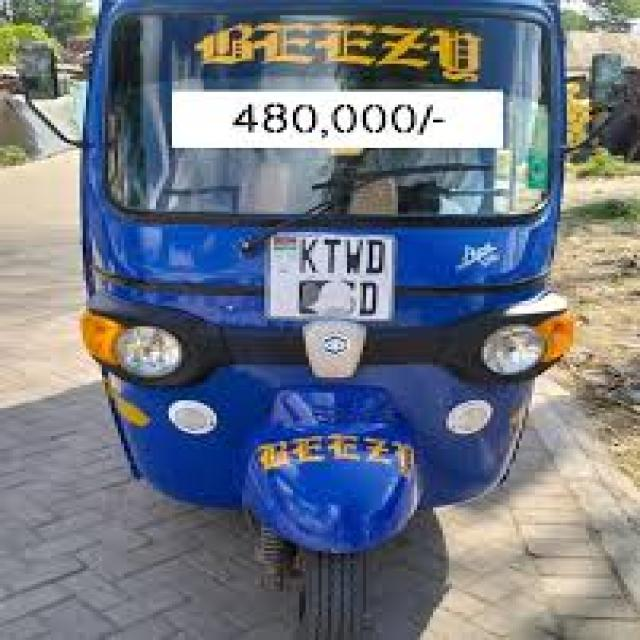tuktuk: (6, 0, 636, 637)
